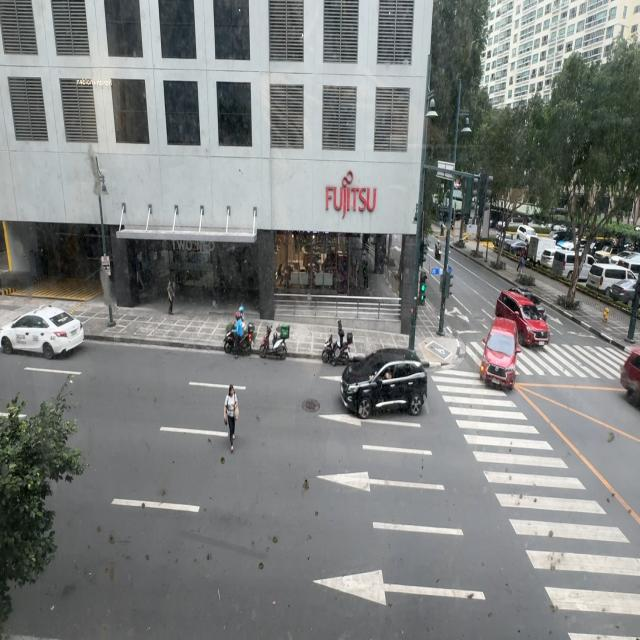jaywalking: (224, 384, 238, 452)
pedestrain: (167, 280, 175, 314), (516, 252, 524, 277)
